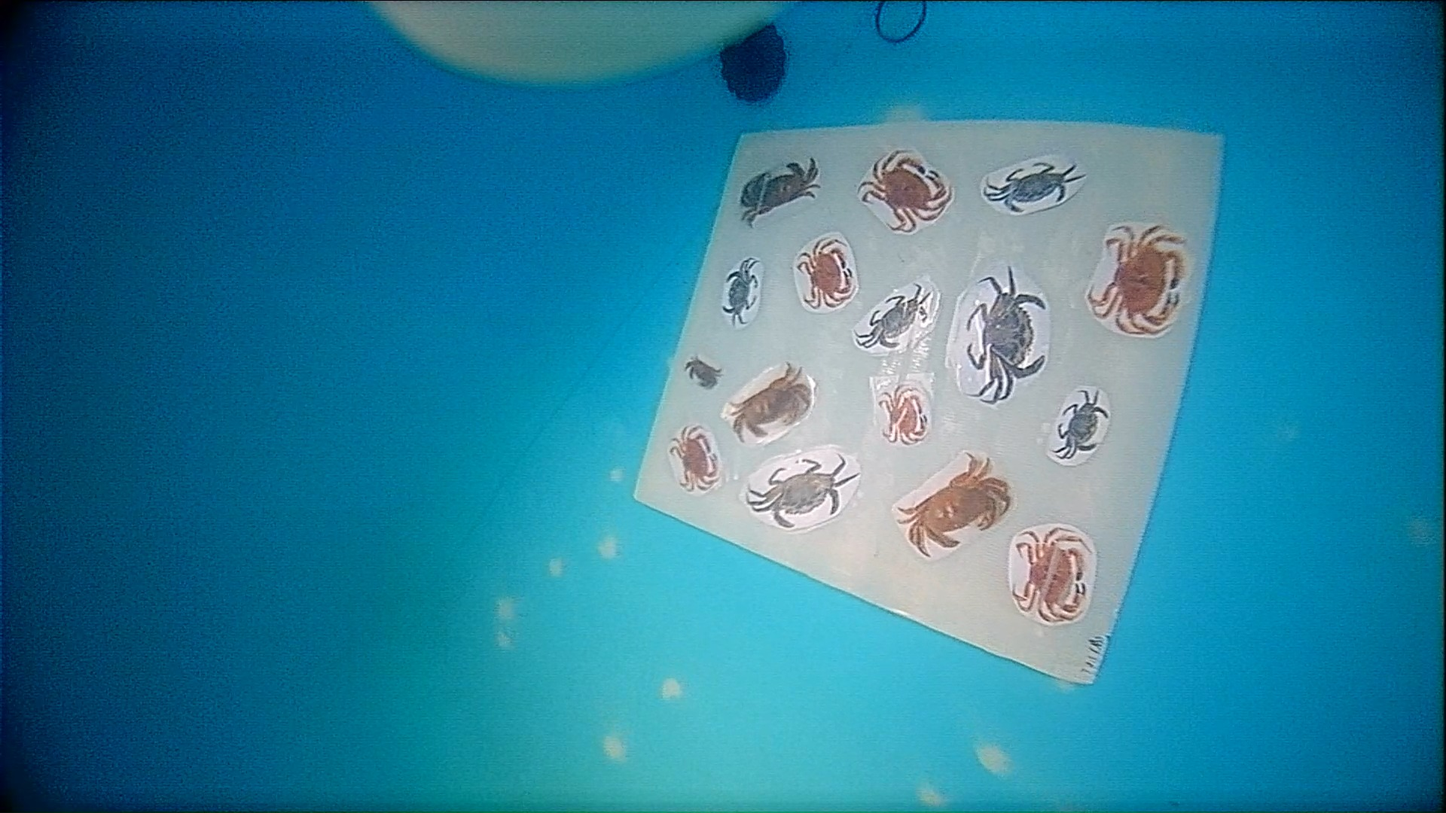GreenCrab: (966, 266, 1047, 403), (746, 458, 859, 528), (984, 162, 1086, 212), (1055, 390, 1108, 458)
